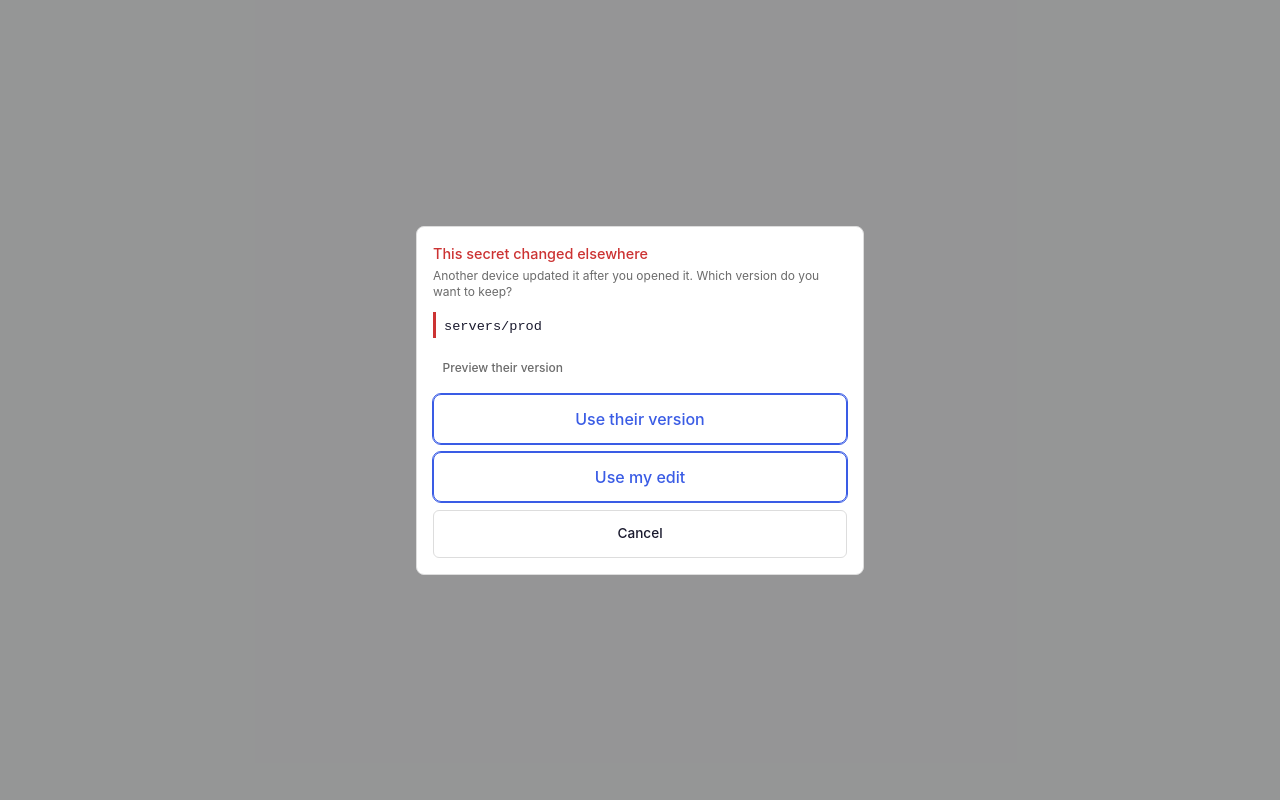
Test: EntryConflictModal › 'Preview their version' surfaces previewError when show_password rejects (undecryptable)
The width and height of the screenshot is (1280, 800).
Click the button with class "ec-preview-btn". click: [503, 368]
box: [433, 350, 573, 386]
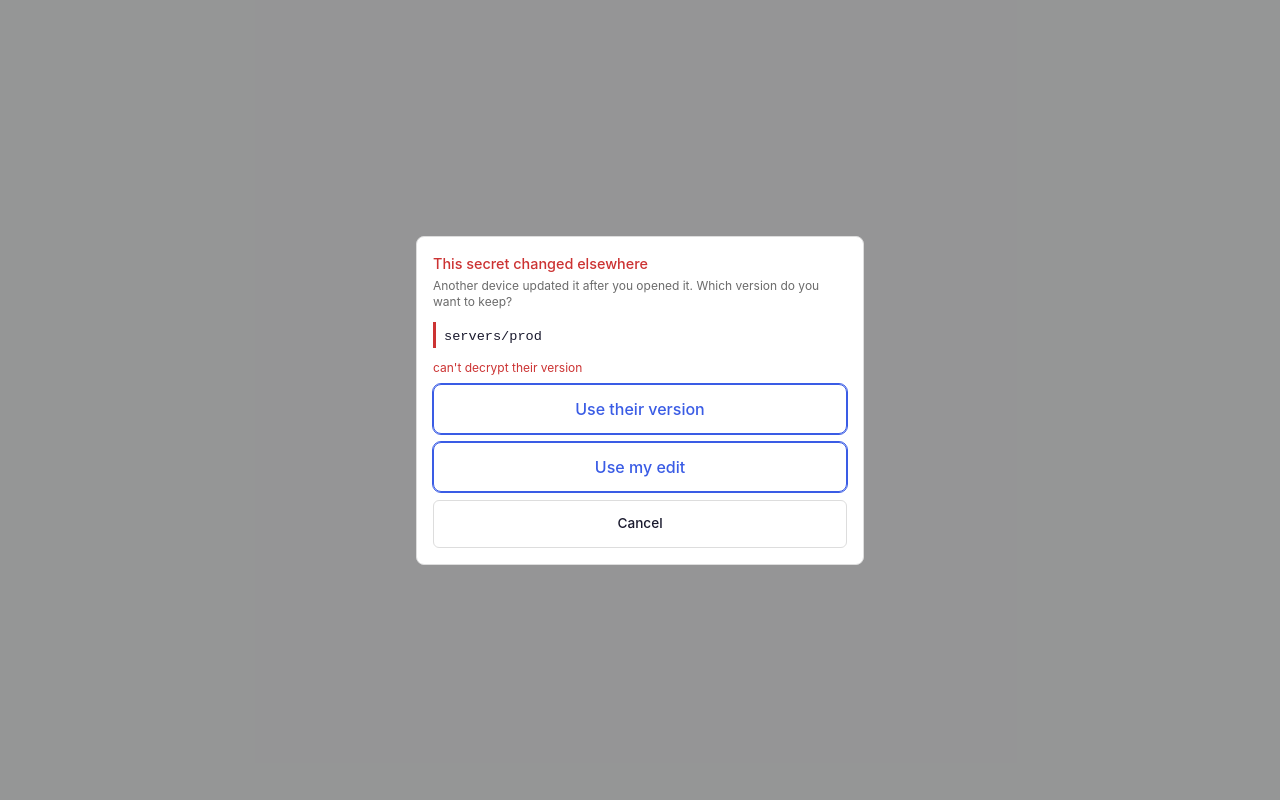
expect the text "can't decrypt their version" is shown: met, box [433, 360, 582, 374]
